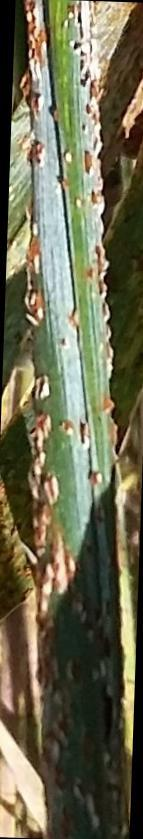Sugarcane: (22, 23, 112, 553)
